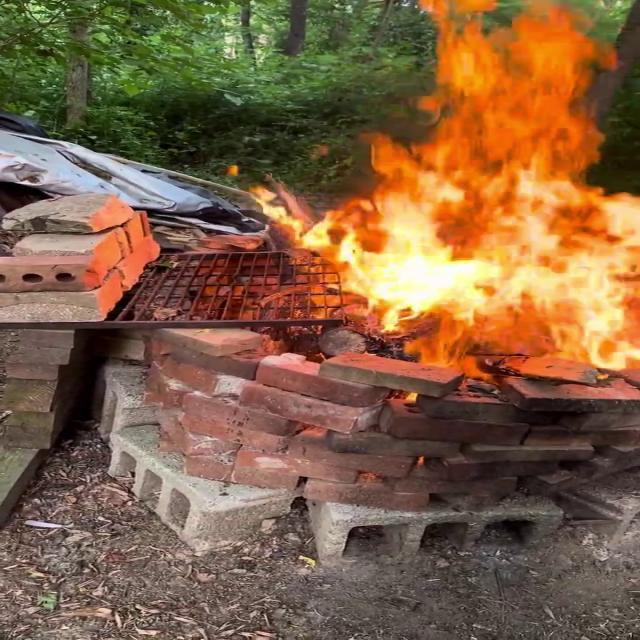Fire: (262, 0, 638, 373)
